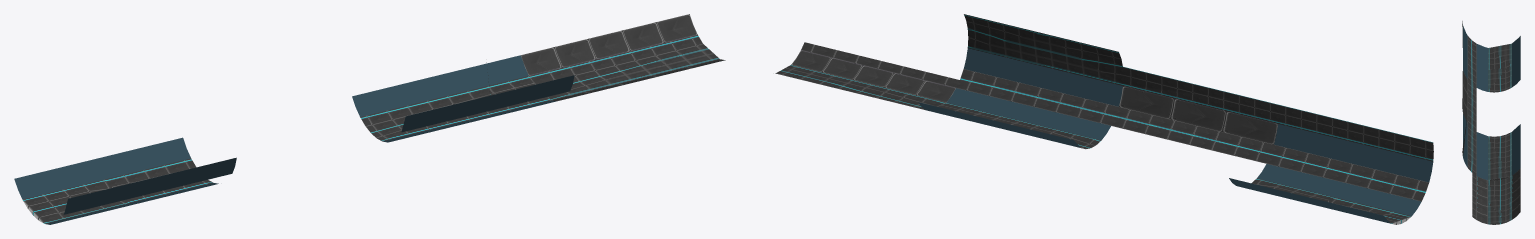
File: movingTube.fbx
3 views of the same model, side by side, from view 1: azimuth 30°, elevation 25°; view 2: azimuth 150°, elevation 25°; view 3: azimuth 270°, elevation 25° (orthographic). The views are drawn at different scales.
Parts seen in each view (by area): view 1: tube, windows; view 2: tube, windows; view 3: tube, windows.
Boxes of the visible parts, x1,y1,x2,y2 form: tube: (23,14,725,223); windows: (14,55,574,224); tube: (775,14,1433,224); windows: (918,48,1433,223); tube: (1462,21,1520,224); windows: (1463,26,1520,180).
Size of the model in its own units: 3688 by 437 by 514.
